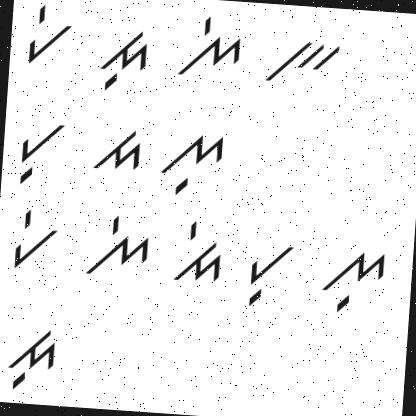da: (90, 120, 146, 182)
de: (168, 218, 229, 288)
du: (92, 18, 154, 94), (0, 323, 63, 394)
ne: (78, 209, 152, 284), (175, 14, 247, 84)
nu: (316, 239, 390, 318), (157, 128, 235, 202)
pe: (3, 197, 64, 273), (23, 0, 82, 71)
pu: (241, 232, 299, 312), (13, 114, 68, 189)
